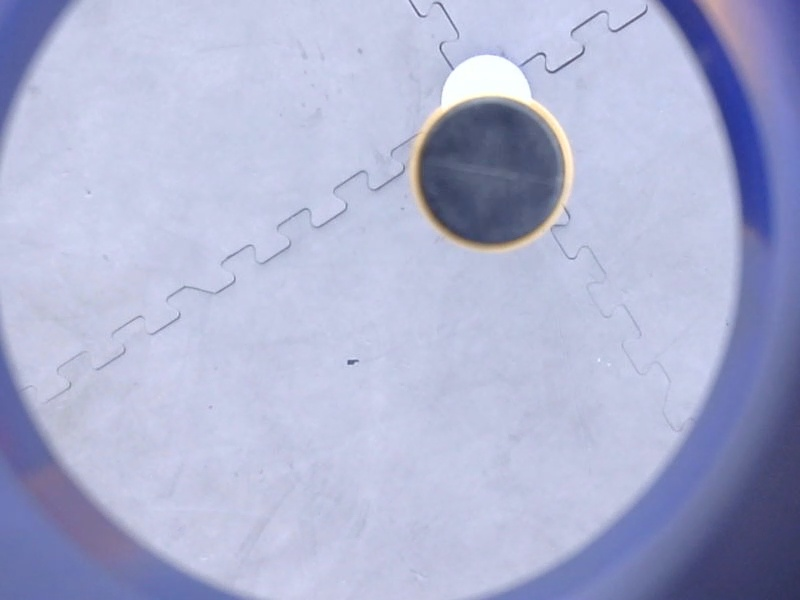tip: (400, 86, 584, 263)
